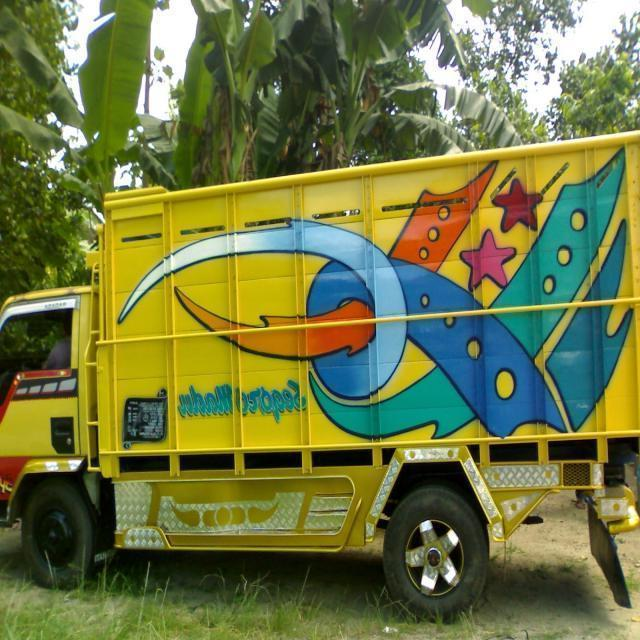truck: (1, 125, 638, 610)
